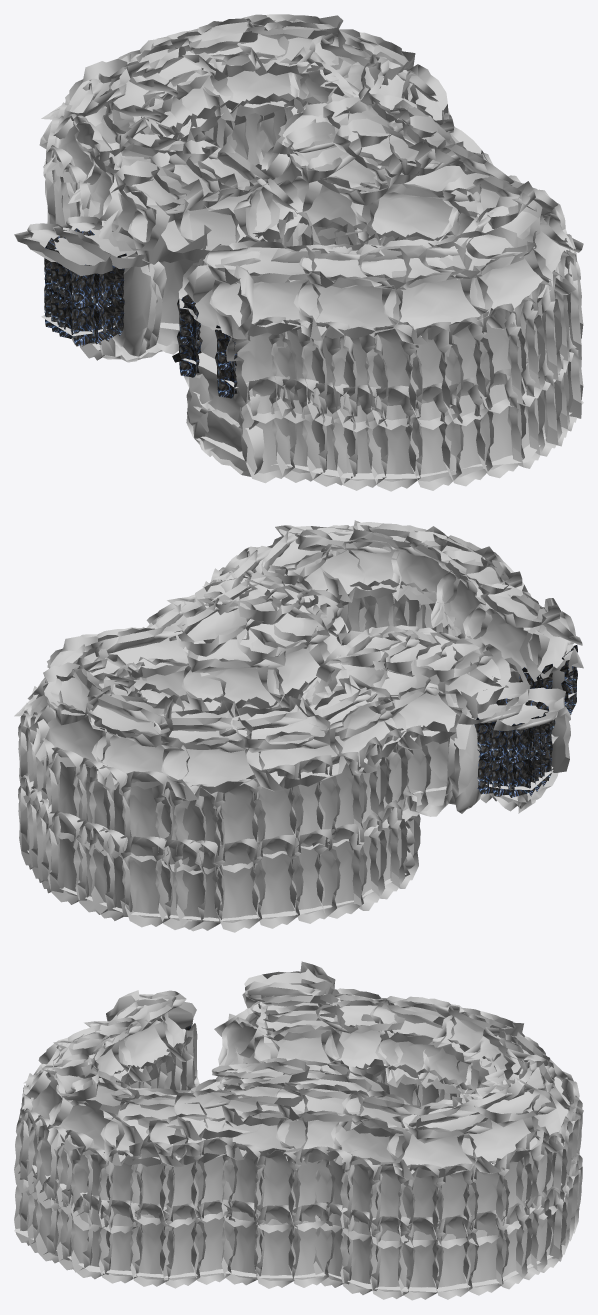
File: cave1_inside_stones.FBX
The picture shows the model from 3 angles, top to bottom: view 1: azimuth 30°, elevation 25°; view 2: azimuth 150°, elevation 25°; view 3: azimuth 270°, elevation 25°; orthographic projection. The views are drawn at different scales.
Visible parts, largest first — view 1: stone761, stone765, stone758, stone682, stone847, stone820, stone826, stone677, stone766, stone686, stone676, stone687 (+92 smaller); view 2: stone830, stone717, stone718, stone764, stone719, stone714, stone823, stone831, stone715, stone834, stone844, stone744 (+93 smaller); view 3: stone818, stone870, stone701, stone700, stone697, stone819, stone817, stone815, stone706, stone698, stone667, stone727 (+103 smaller).
Boxes of the visible parts, x1,y1,x2,y2 form: stone761: (293, 274, 402, 340); stone765: (382, 273, 493, 345); stone758: (209, 272, 322, 339); stone682: (226, 316, 296, 423); stone847: (128, 202, 239, 264); stone820: (350, 181, 461, 245); stone826: (201, 51, 308, 121); stone677: (358, 385, 422, 491); stone766: (460, 249, 552, 329); stone686: (359, 324, 422, 429); stone676: (399, 383, 463, 490); stone687: (399, 322, 463, 429); stone830: (161, 737, 264, 800); stone717: (208, 838, 265, 932); stone718: (246, 835, 303, 928); stone764: (320, 539, 402, 602); stone719: (283, 829, 340, 923); stone714: (119, 836, 172, 927); stone823: (181, 658, 284, 715); stone831: (245, 731, 346, 791); stone715: (152, 839, 206, 929); stone834: (378, 687, 471, 749); stone844: (230, 696, 330, 752); stone744: (209, 779, 265, 872); stone818: (386, 1126, 477, 1179); stone870: (173, 1088, 262, 1140); stone701: (287, 1202, 335, 1287); stone700: (252, 1205, 300, 1288); stone697: (158, 1203, 206, 1288); stone819: (457, 1110, 543, 1173); stone817: (331, 1115, 411, 1166); stone815: (220, 1109, 307, 1160); stone706: (430, 1214, 478, 1299); stone698: (189, 1199, 237, 1284); stone667: (129, 1203, 174, 1286); stone727: (253, 1149, 300, 1233).
Size of the model in its own units: 5621 by 2541 by 7004.
